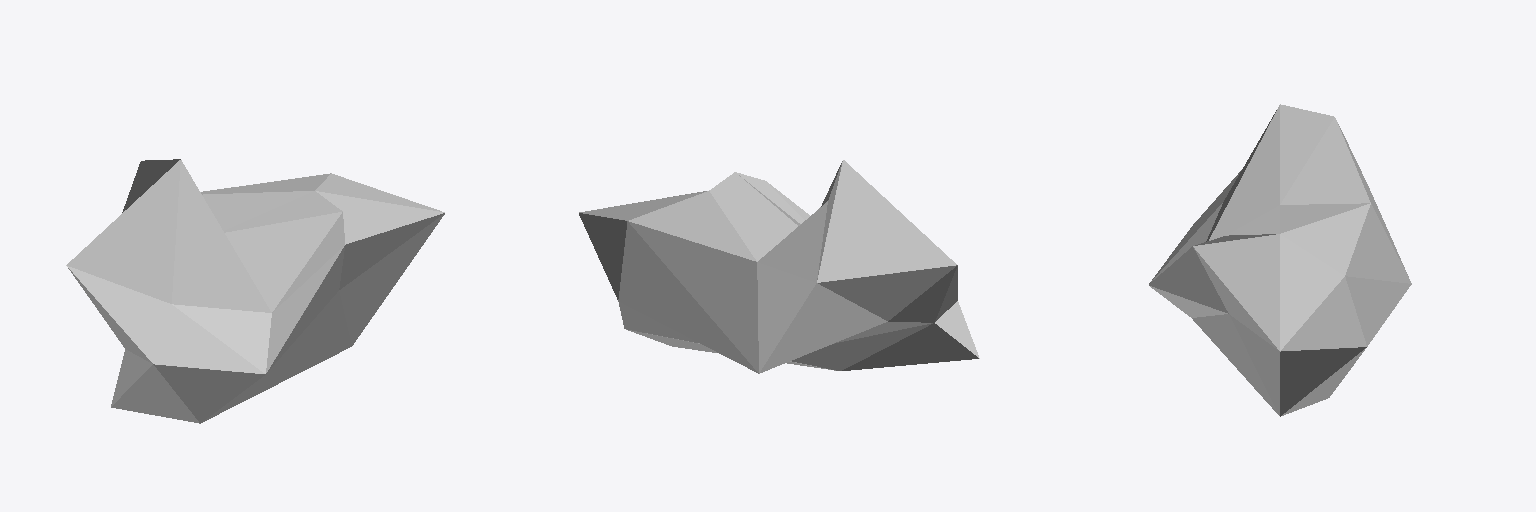
File: minerals2.obj
3 views of the same model, side by side, from view 1: azimuth 30°, elevation 25°; view 2: azimuth 150°, elevation 25°; view 3: azimuth 270°, elevation 25° (orthographic).
Visible parts, largest first — view 1: Shard02_Cube.002; view 2: Shard02_Cube.002; view 3: Shard02_Cube.002.
Boxes of the visible parts, <box> form: Shard02_Cube.002: <box>66,159,444,423</box>; Shard02_Cube.002: <box>579,160,979,373</box>; Shard02_Cube.002: <box>1149,104,1411,416</box>.
Size of the model in its own units: 0.3356 by 0.1945 by 0.202.